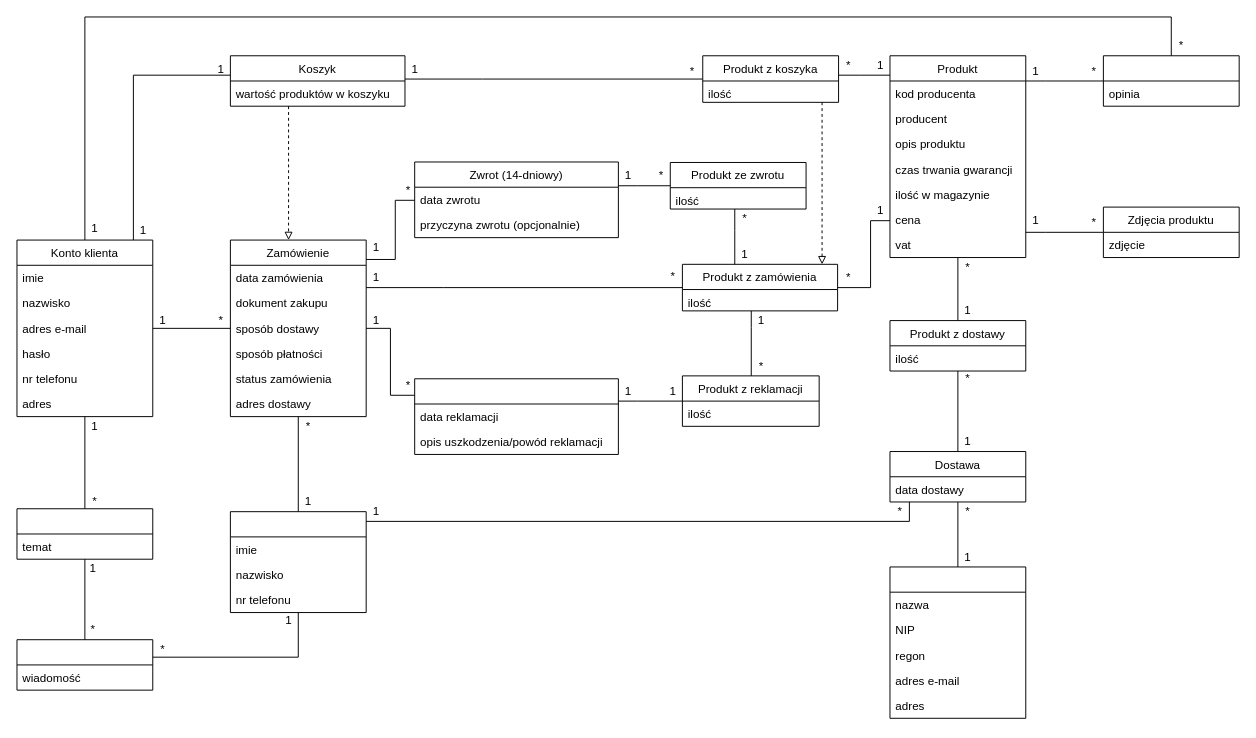
Some shapes in this 1256 by 738 pixel diagram are drawn without their labels. The box of each missing label's shape, as (x1, y1, x2, y2) in pixels:
Dostawca: (889, 566, 1026, 718)
Konwersacja: (16, 639, 153, 690)
Opinie o produkcie: (1102, 55, 1239, 106)
Pomoc techniczna: (16, 508, 153, 559)
Pracownik: (229, 511, 366, 613)
Reklamacja: (414, 378, 618, 454)
